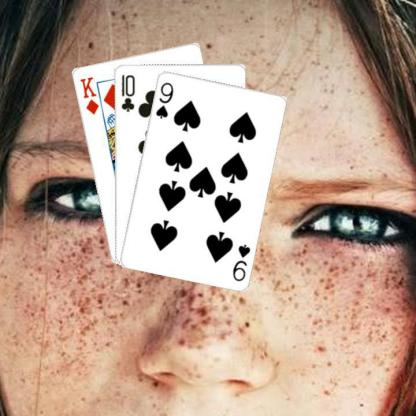10C: (118, 72, 136, 112)
9S: (153, 79, 175, 120), (230, 242, 251, 282)
KD: (77, 74, 100, 116)
